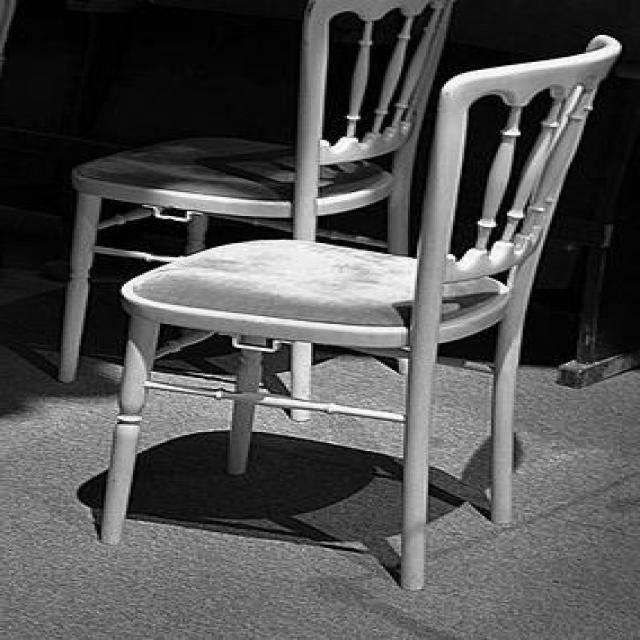chair: (96, 19, 624, 596), (55, 1, 463, 420)
